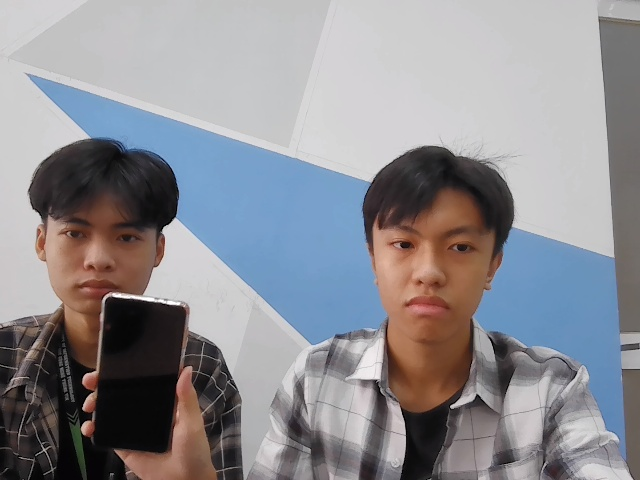human: (345, 138, 518, 335), (29, 138, 178, 302)
phone: (90, 287, 188, 459)
